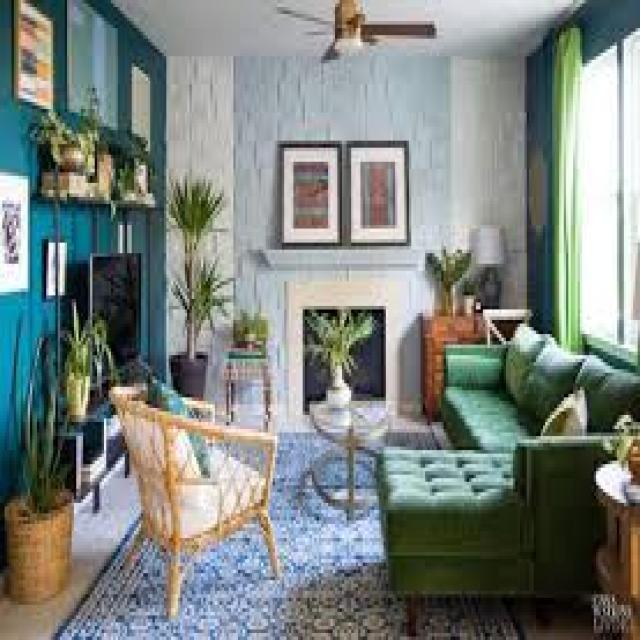Chair: (110, 386, 290, 607)
Lamp: (478, 218, 515, 304)
Sofa: (387, 332, 640, 609)
Table: (312, 394, 385, 514)
